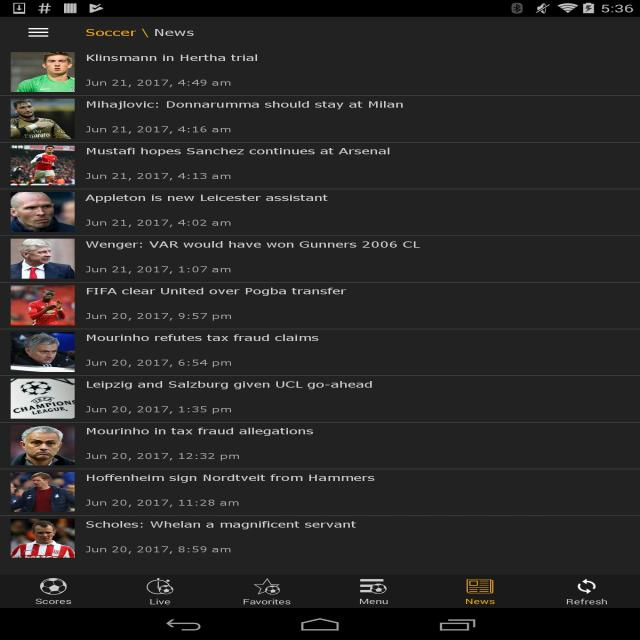button: (340, 574, 409, 609), (234, 574, 301, 608), (448, 573, 509, 608), (560, 574, 618, 608), (134, 575, 190, 608), (29, 574, 80, 608), (23, 25, 53, 41)
heading: (77, 26, 202, 39)
image: (4, 191, 76, 231), (6, 472, 76, 513), (10, 284, 76, 326), (9, 99, 74, 141), (9, 239, 74, 281), (10, 377, 75, 419), (12, 50, 76, 92), (7, 519, 75, 558), (10, 332, 77, 371), (8, 145, 74, 184), (9, 428, 73, 465)
text: (83, 238, 423, 252), (84, 99, 406, 112), (83, 518, 363, 532), (87, 147, 400, 159), (81, 192, 326, 206), (86, 379, 376, 390), (83, 425, 316, 438), (83, 473, 379, 483), (82, 286, 350, 296), (81, 51, 269, 65), (81, 542, 240, 557), (84, 334, 320, 344), (81, 356, 237, 371), (80, 77, 238, 91), (81, 170, 236, 184), (84, 263, 236, 277), (83, 451, 245, 464), (83, 310, 238, 323), (83, 497, 244, 509), (83, 404, 237, 416), (83, 218, 236, 230), (85, 125, 238, 135)
